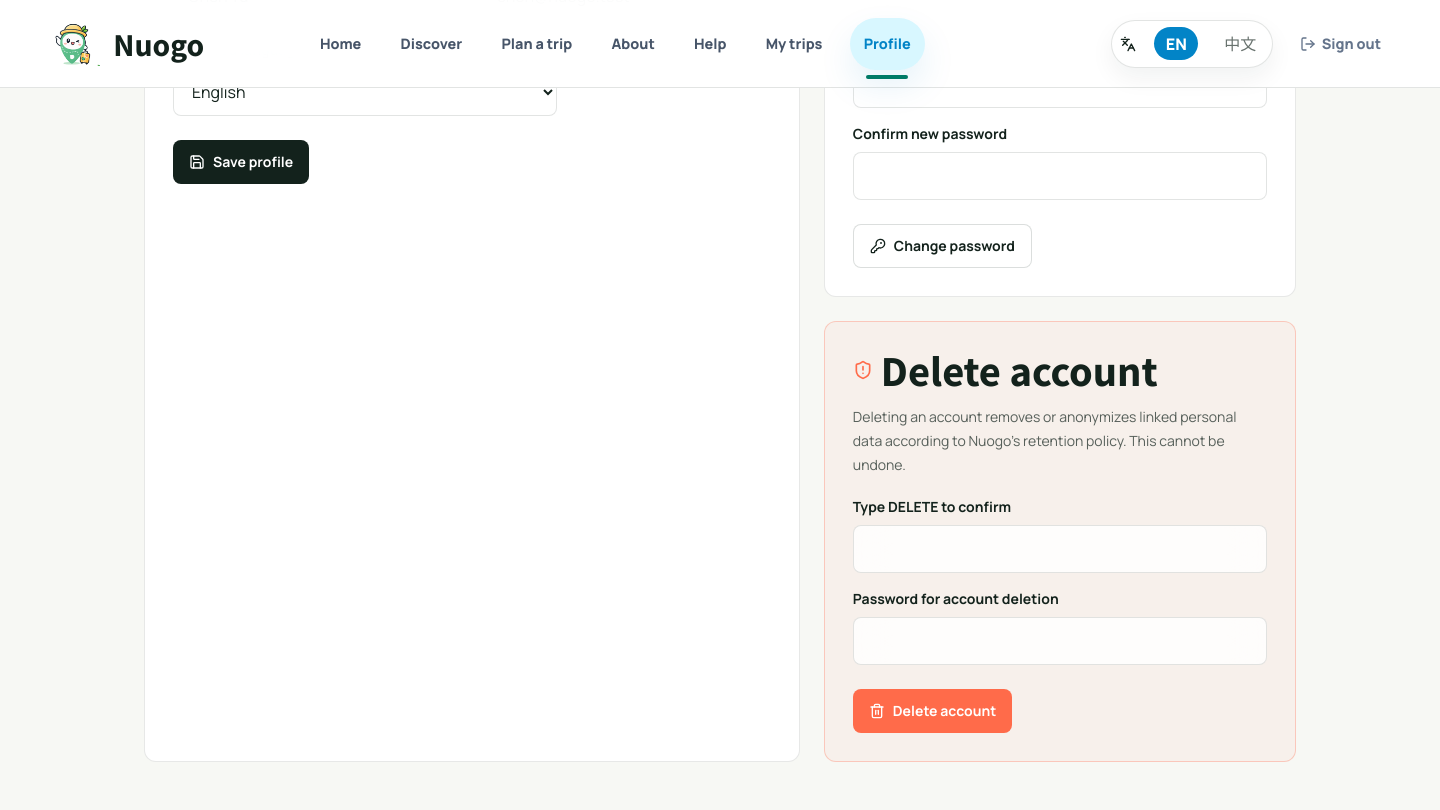
Test: ProfilePage › refocuses the deletion password after an async wrong-password response
The image size is (1440, 810).
(page scrolled)
Type "DELETE" into the field labelled "Type DELETE to confirm". click: point(1060, 550)
box: 853,526 -> 1267,574
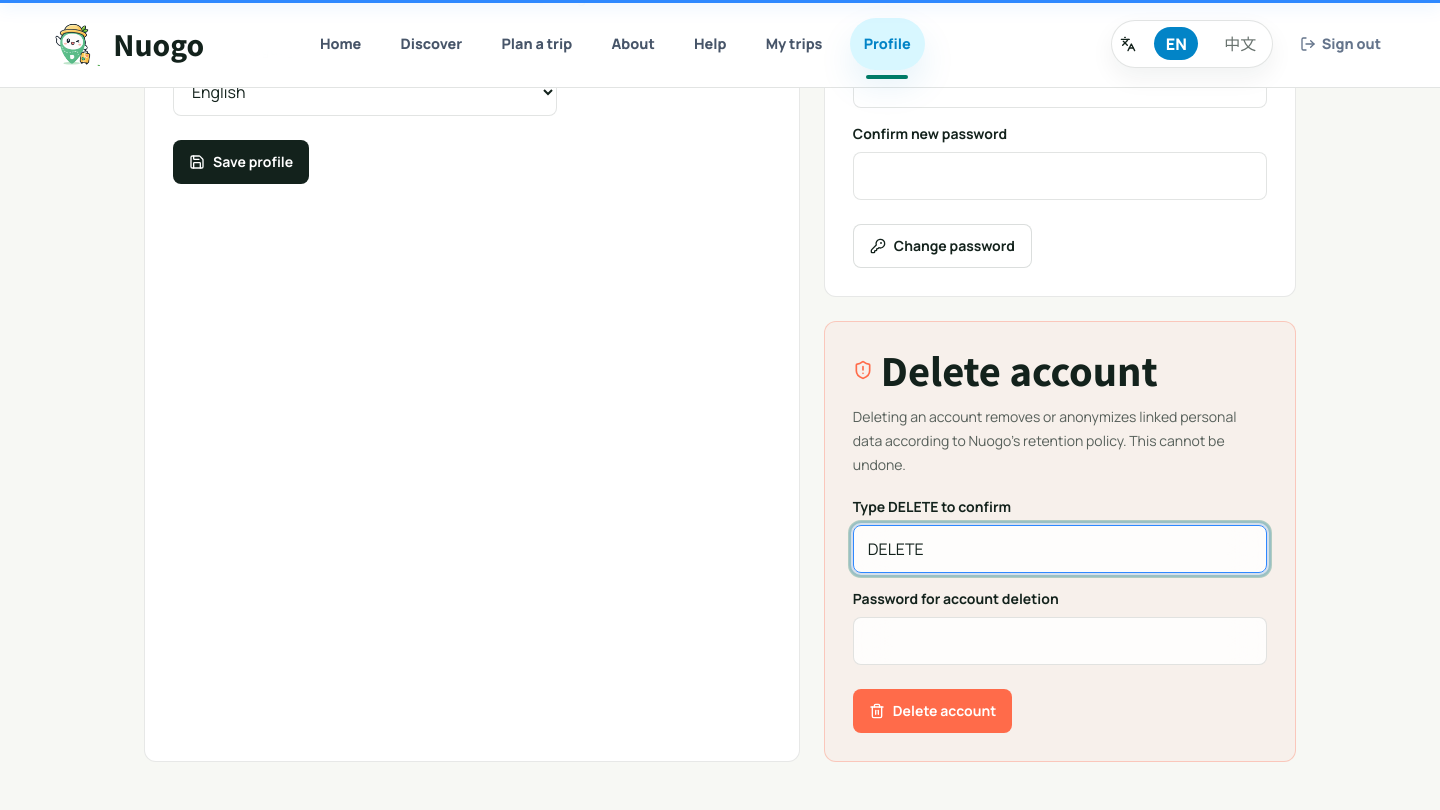
Type "Incorrect123!" into the password field labelled "Password for account deletion". click: point(1060, 642)
box: 853,618 -> 1267,666
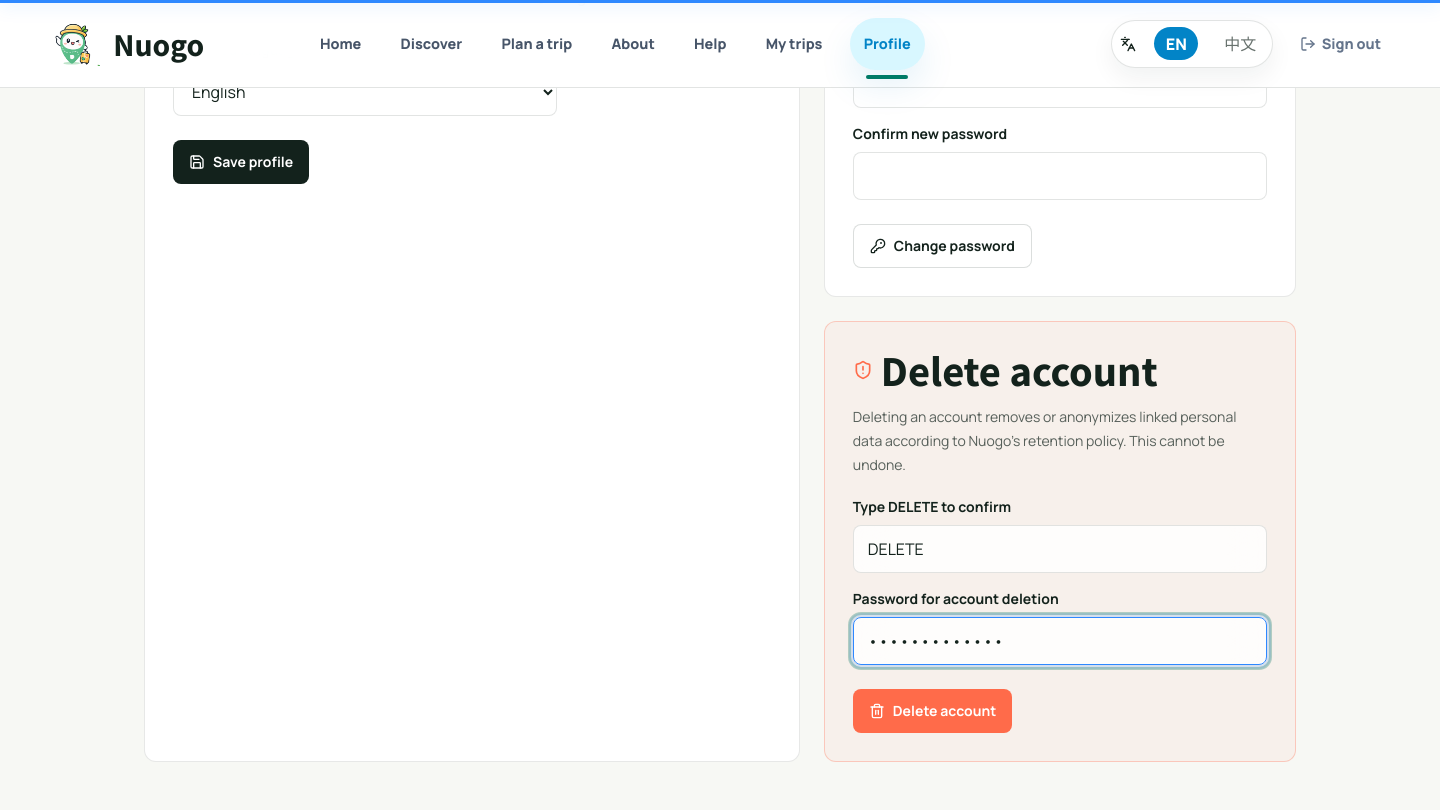
Click the button "Delete account". click: point(933, 712)
box: 853,690 -> 1012,734
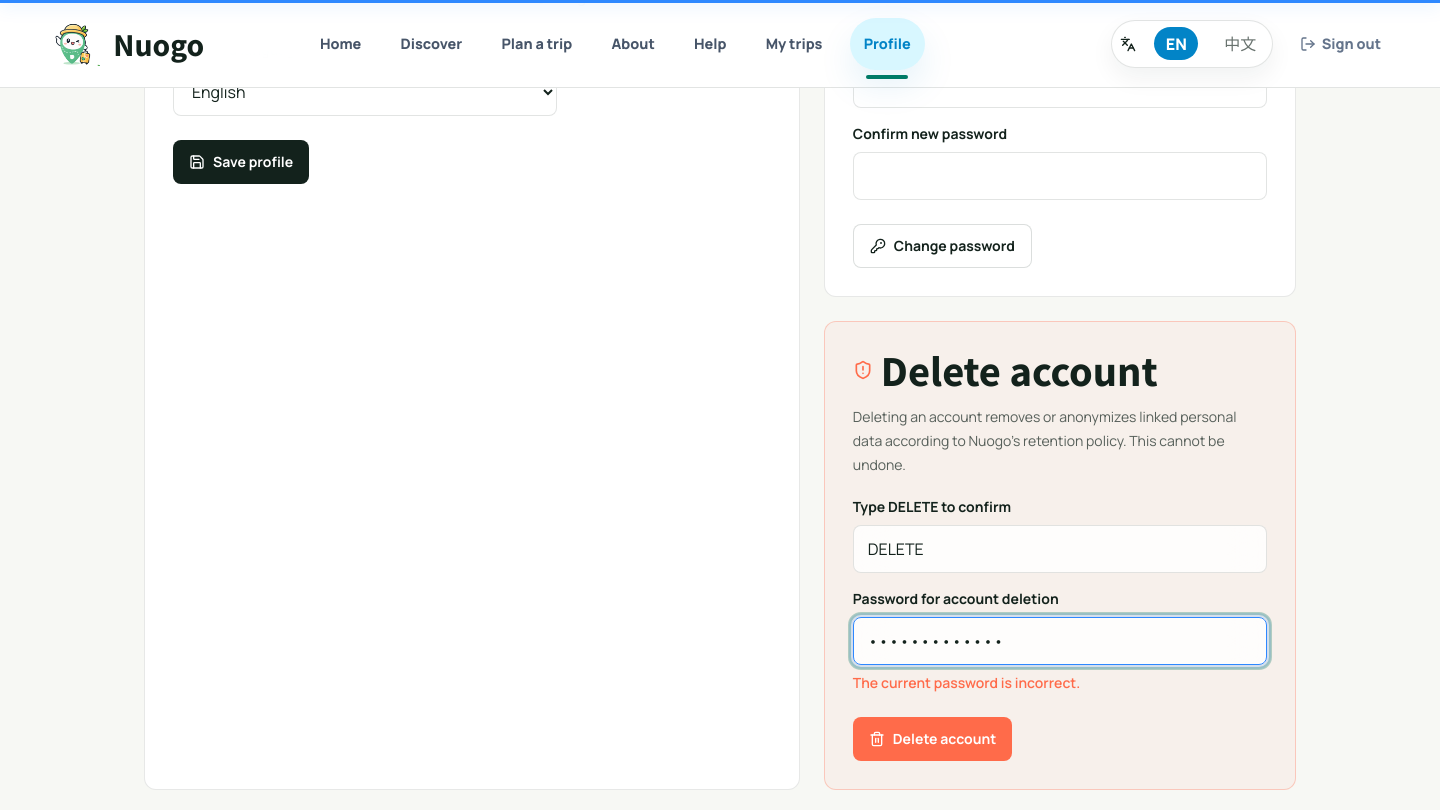
Expected: the message reads "The current password is incorrect.", 853,674 -> 1080,692
